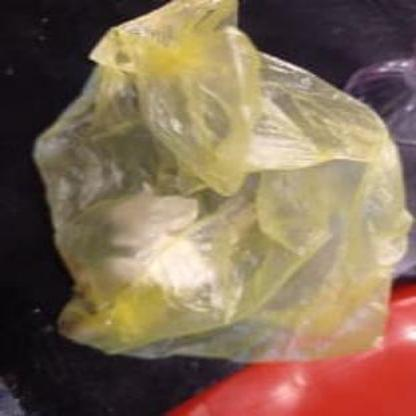objects: (24, 18, 390, 373)
